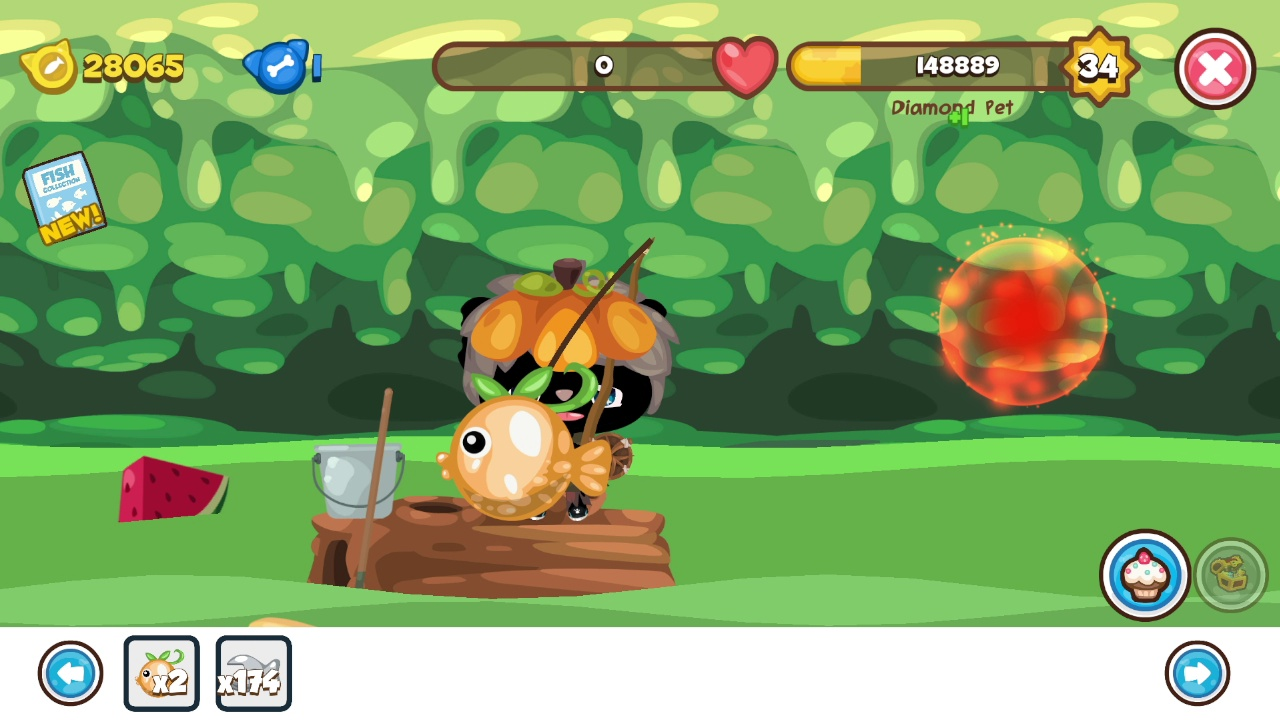point: (936, 234, 1111, 408)
